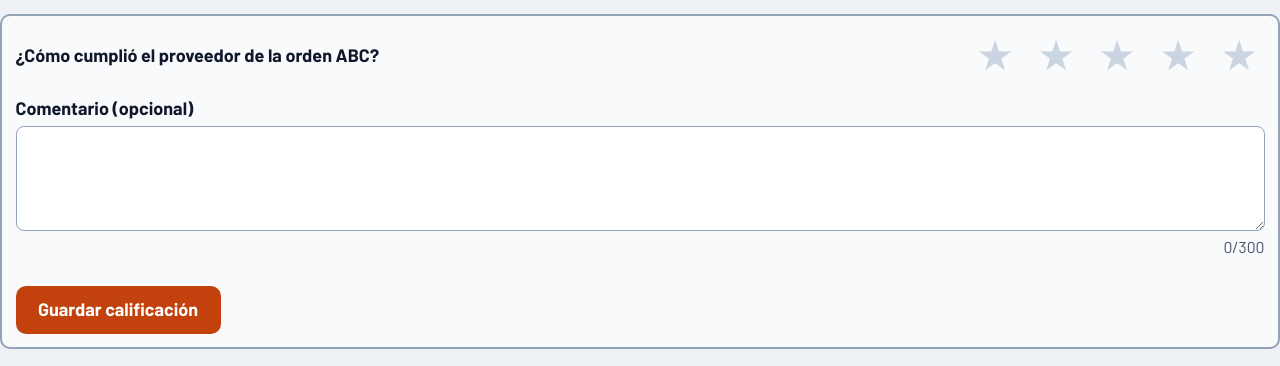
Test: CalificacionProveedor por orden (#222) › permite guardar una calificación sin comentario
The image size is (1280, 366).
Click the button named "3 de 5": (1116, 55) [1090,29,1142,81]
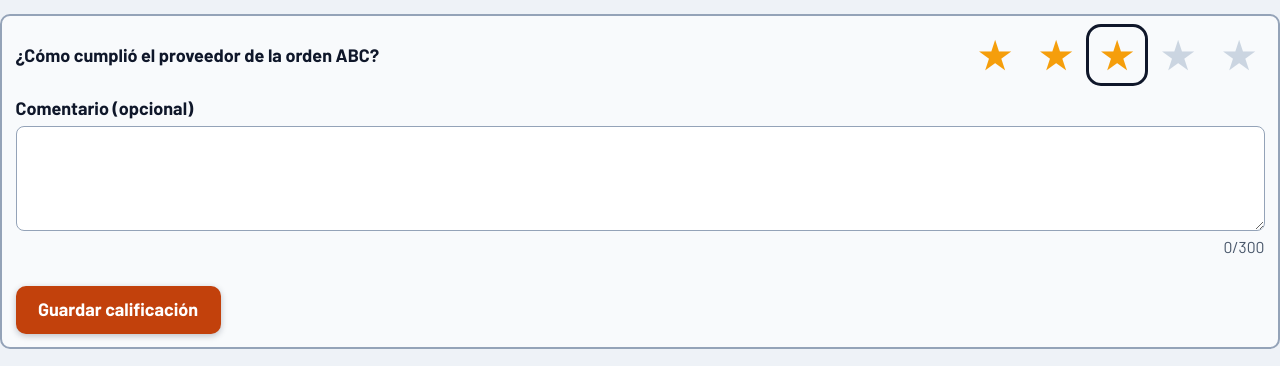
Click the button "Guardar calificación": (118, 310) [16,286,220,334]
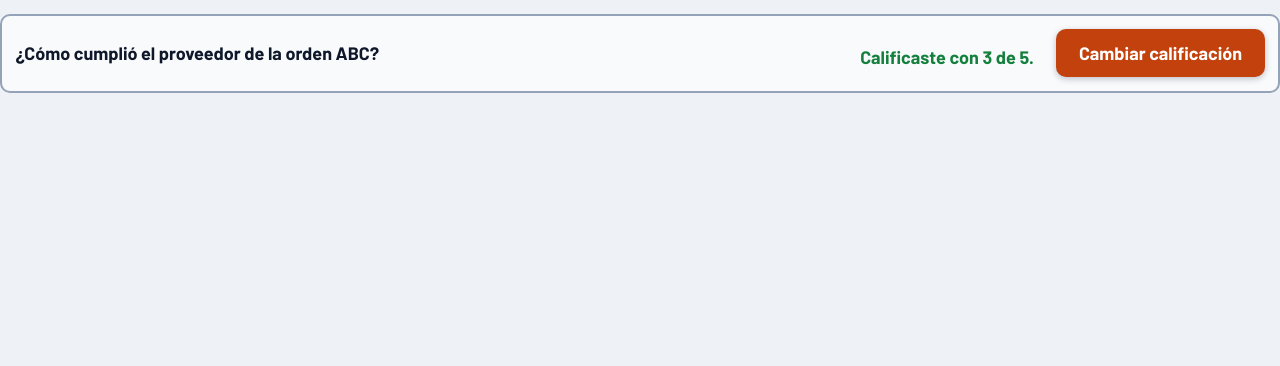
Expected: the text "Calificaste con 3 de 5." is shown, [860,44,1034,71]
